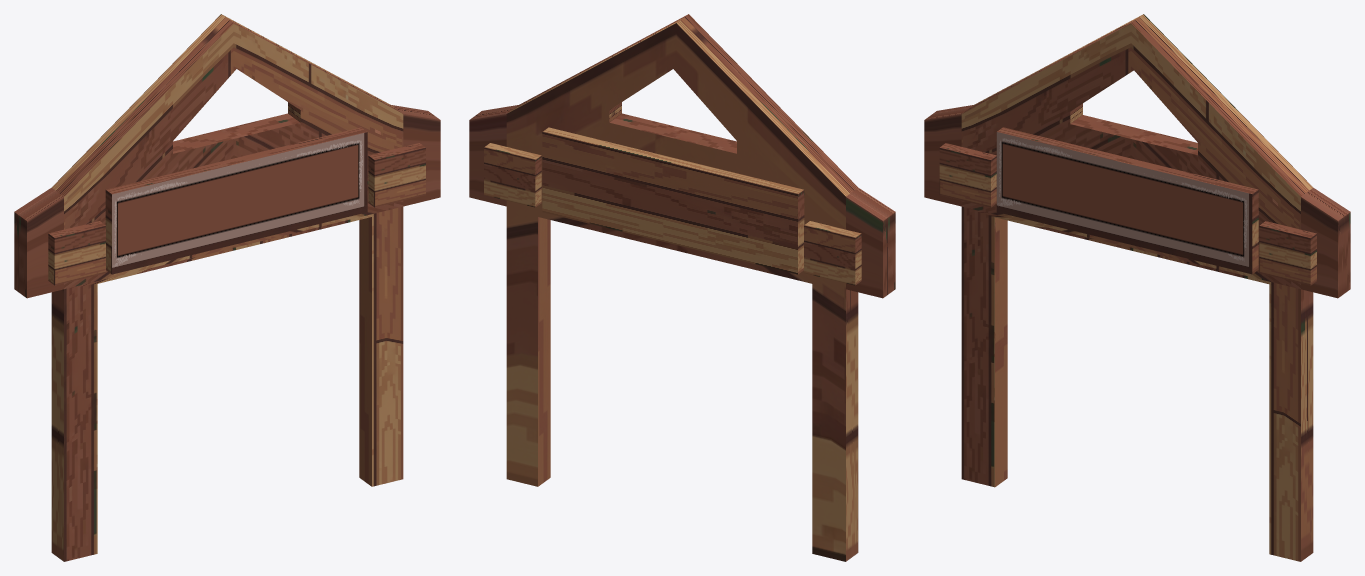
File: bunker_gate.fbx
3 renders of one model, left to right at view 1: azimuth 30°, elevation 25°; view 2: azimuth 150°, elevation 25°; view 3: azimuth 330°, elevation 25°, orthographic.
Visible parts, largest first — view 1: bunker_gate; view 2: bunker_gate; view 3: bunker_gate.
Boxes of the visible parts, x1,y1,x2,y2 form: bunker_gate: (14,14,440,561); bunker_gate: (469,14,895,561); bunker_gate: (924,14,1350,561).
Size of the model in its own units: 1032 by 1185 by 109.
